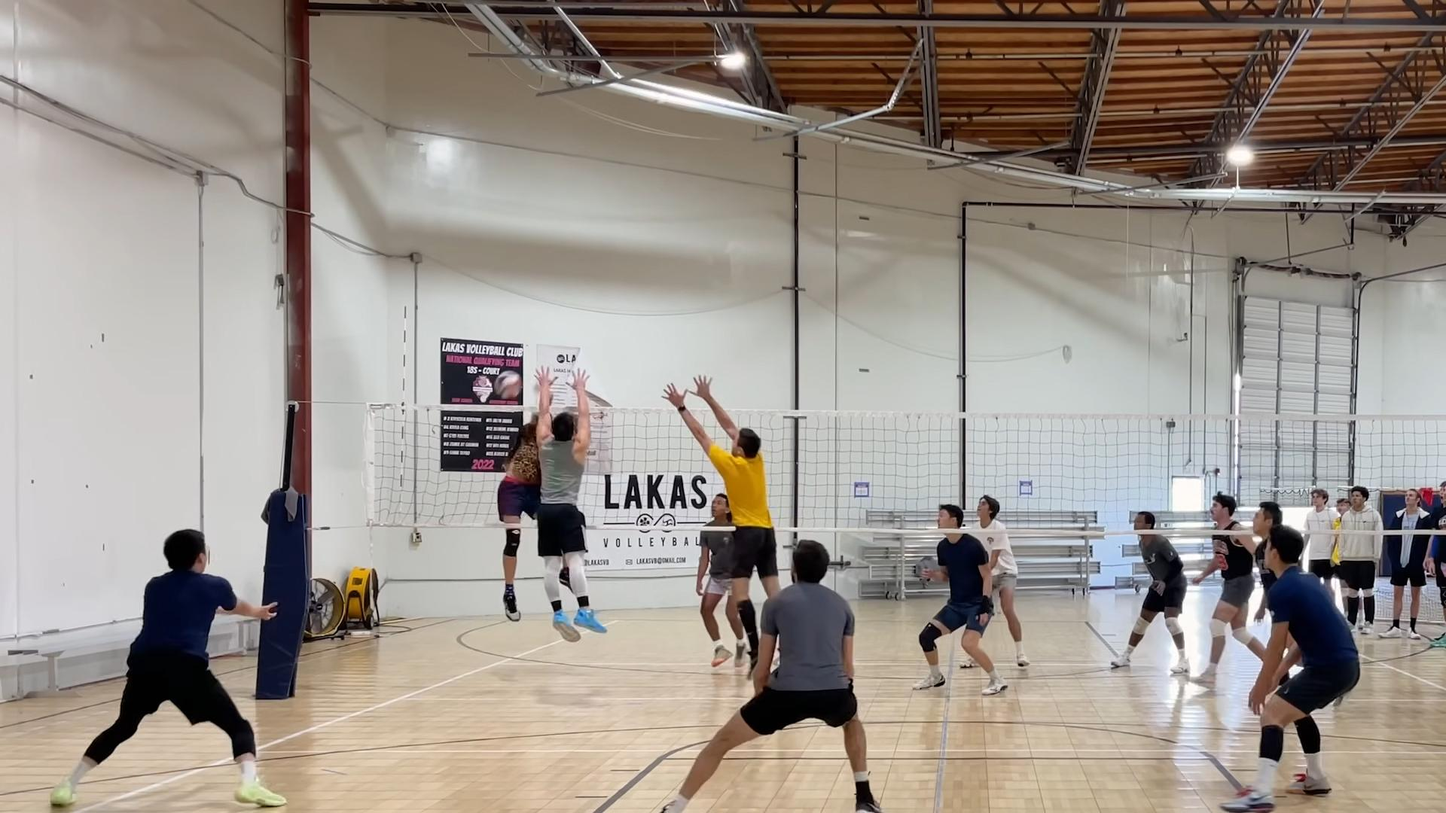attacco: (496, 397, 544, 631)
muro: (670, 372, 807, 661), (533, 363, 609, 646)
